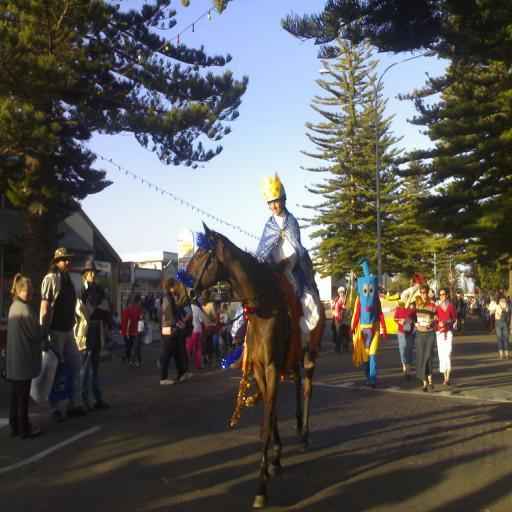horse: (167, 220, 324, 507)
